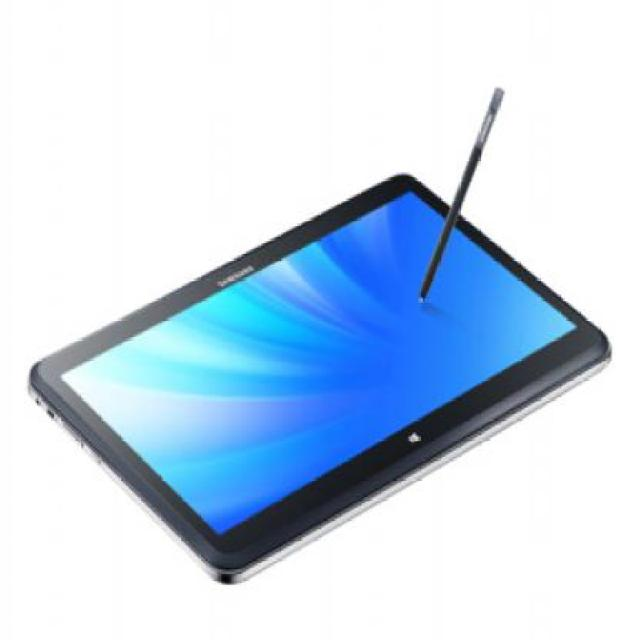tablet: (26, 104, 615, 581)
